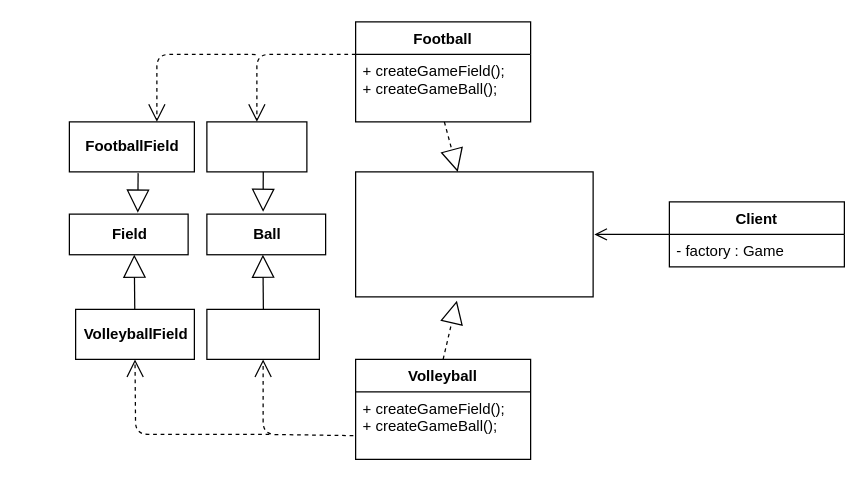
Image size: 868x485. Some labels were removed from this diagram. The shapes that lost their labels are listed below. From the top down, each one's centre as x and y in pixels, then its label:
point 256,146: FootballBall
point 473,234: <<Interface>> Game + createGameField(); + createGameBall();
point 262,333: VolleyballBall
